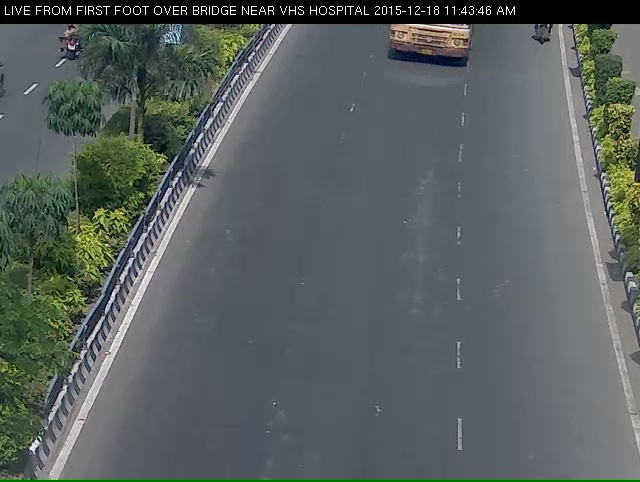Bus: (379, 22, 480, 80)
